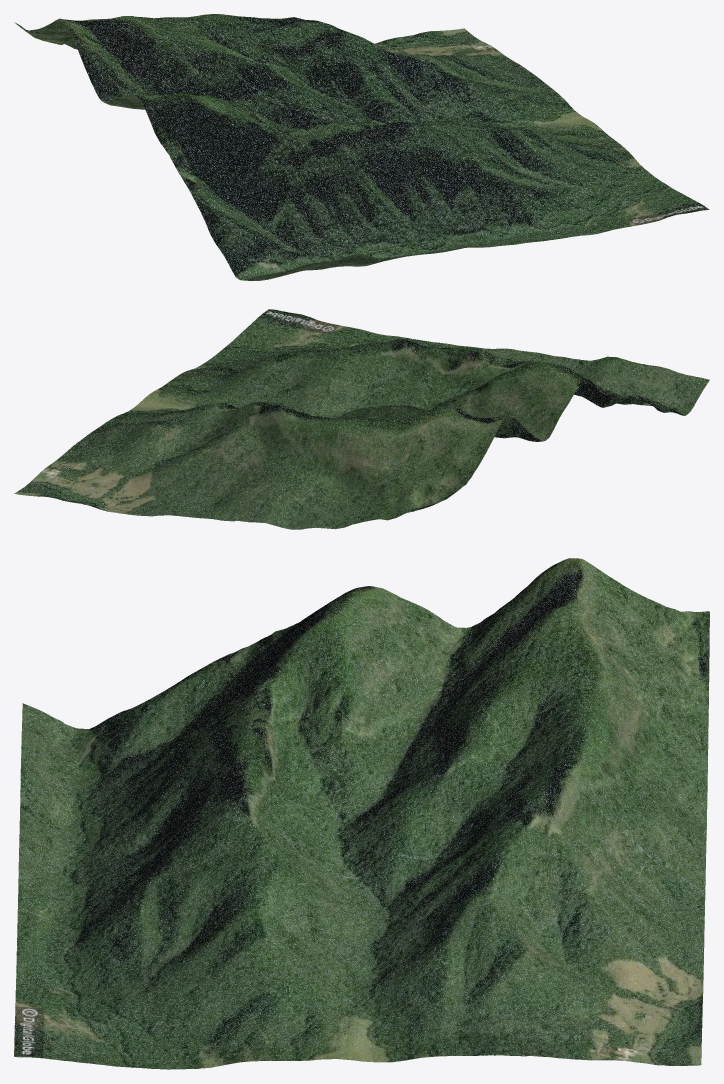
File: RioRastro2c.dae
The picture shows the model from 3 angles, top to bottom: view 1: azimuth 30°, elevation 25°; view 2: azimuth 150°, elevation 25°; view 3: azimuth 270°, elevation 25°; orthographic projection. The views are drawn at different scales.
Parts seen in each view (by area): view 1: group_0; view 2: group_0; view 3: group_0.
Part boxes in pixels (x1,y1,x2,y2): group_0: (14, 14, 709, 280); group_0: (14, 309, 709, 529); group_0: (14, 558, 709, 1069).
Size of the model in its own units: 79688 by 77497 by 26335.
2 materials, 1 textured.
